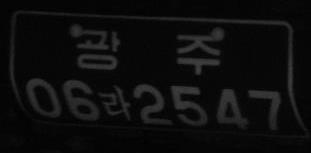0: (26, 77, 62, 118)
2: (133, 83, 171, 124)
4: (214, 87, 249, 131)
5: (171, 83, 208, 126)
6: (62, 78, 100, 122)
7: (249, 88, 281, 132)
광주_D: (78, 30, 220, 74)
라: (101, 84, 131, 122)
